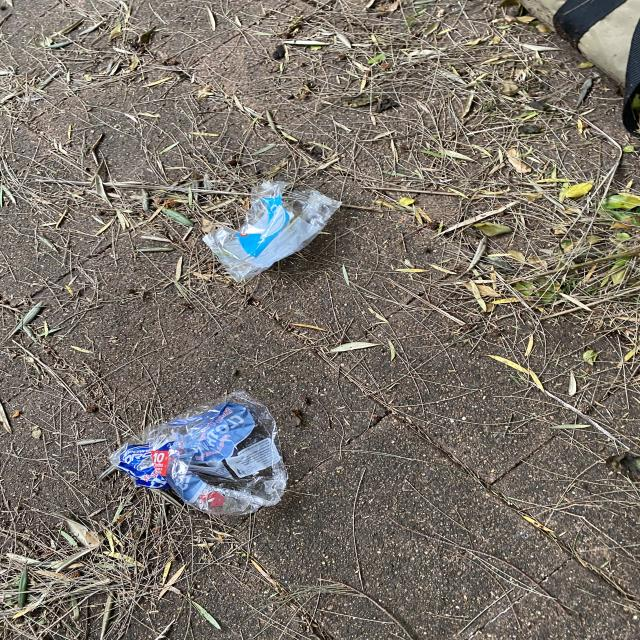wrappers: (109, 390, 288, 516), (201, 180, 342, 284)
